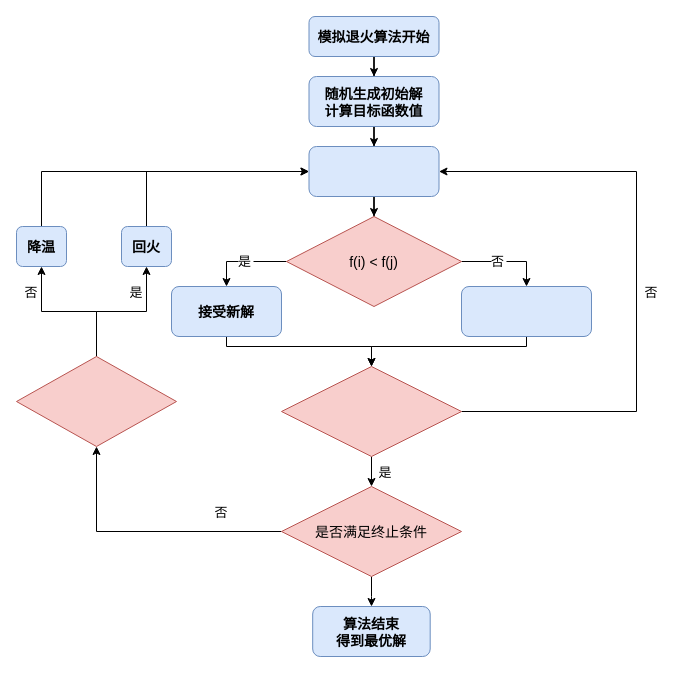
The diagram is 683 pixels wide and 673 high, and some of its shapes have lost their labels. Here are the shapes that lost their labels. From the top down, the centre of each, then its label:
At [373,171]: "扰动产生新解 计算目标函数".
At [526,311]: "依据Metropolis准则 是否接受新解".
At [96,401]: "是否符合回火 及降温条件".
At [371,411]: "是否到达内环境 循环迭代次数".
